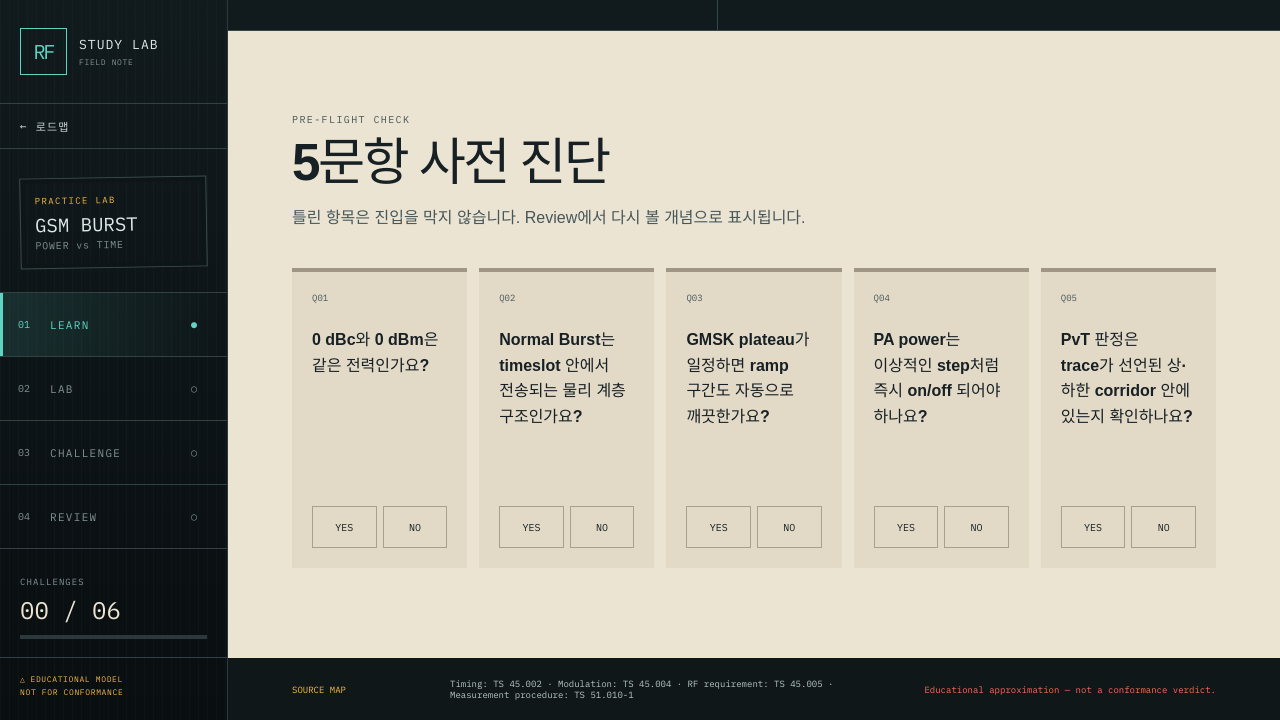
Test: RF Study Lab learning flow › answers a concept check and persists the evidence
The image size is (1280, 720).
(page scrolled)
Expected: the text "0 dBc와 0 dBm은 같은 전력인가요?" is shown, x1=312 y1=331 x2=438 y2=374
Click the button "NO" below "0 dBc와 0 dBm은 같은 전력인가요?" at (415, 527), box x1=383 y1=506 x2=447 y2=548
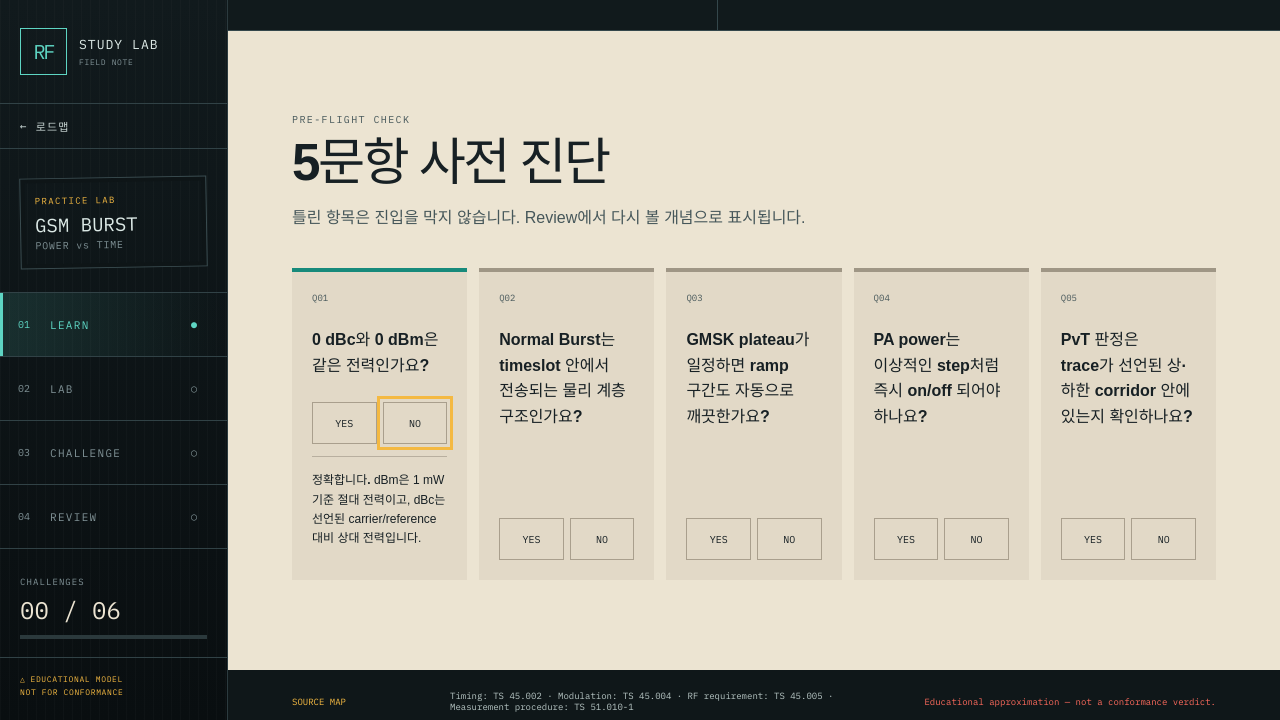
Now the text "정확합니다." is shown, box x1=312 y1=474 x2=370 y2=488
